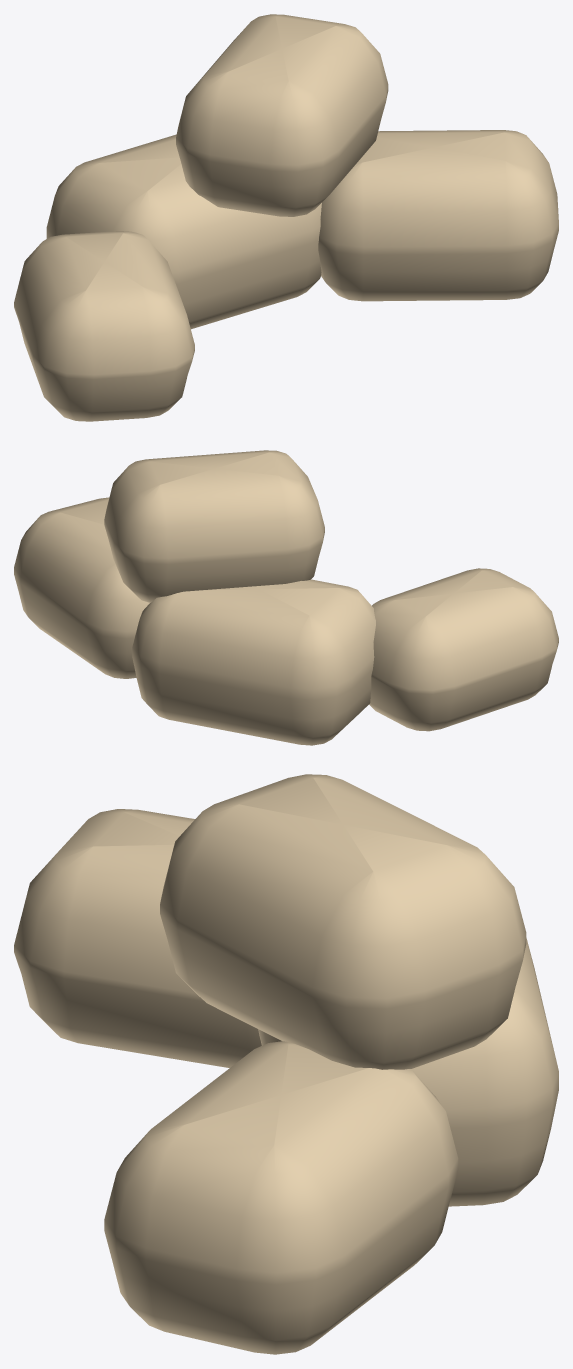
The model's file is theatre-stage-and-backstage-sandbag-pile-983c6955__35924.glb.
3 renders of one model, top to bottom at view 1: azimuth 30°, elevation 25°; view 2: azimuth 150°, elevation 25°; view 3: azimuth 270°, elevation 25°, orthographic. The views are drawn at different scales.
Visible parts, largest first — view 1: sandbag-pile; view 2: sandbag-pile; view 3: sandbag-pile.
Part boxes in pixels (bbox=[...]): sandbag-pile: bbox=[14, 14, 558, 421]; sandbag-pile: bbox=[14, 450, 558, 745]; sandbag-pile: bbox=[14, 774, 558, 1354].
Bounding box in the file's own units: 0.9426 × 0.4 × 0.5275.
